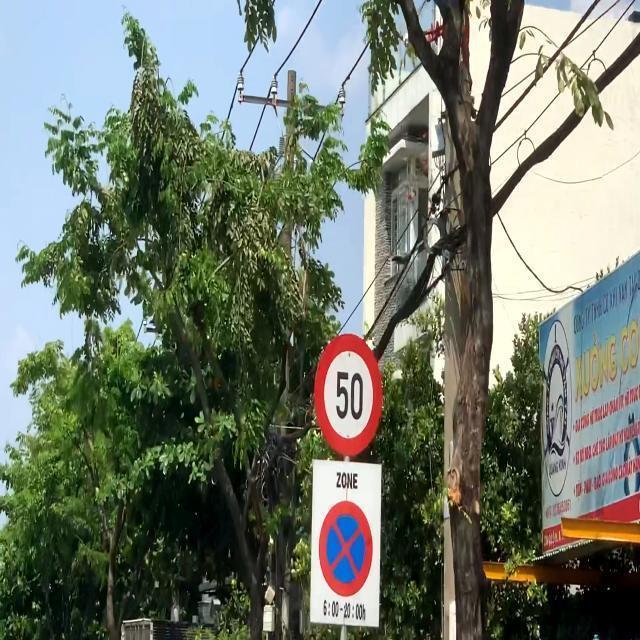127-toc-do-toi-da-50: (314, 336, 382, 456)
130-cam-dung-va-do-xe: (318, 502, 373, 597)
